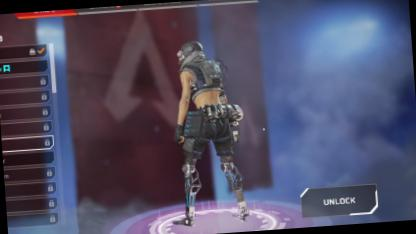Target: (172, 36, 242, 192)
